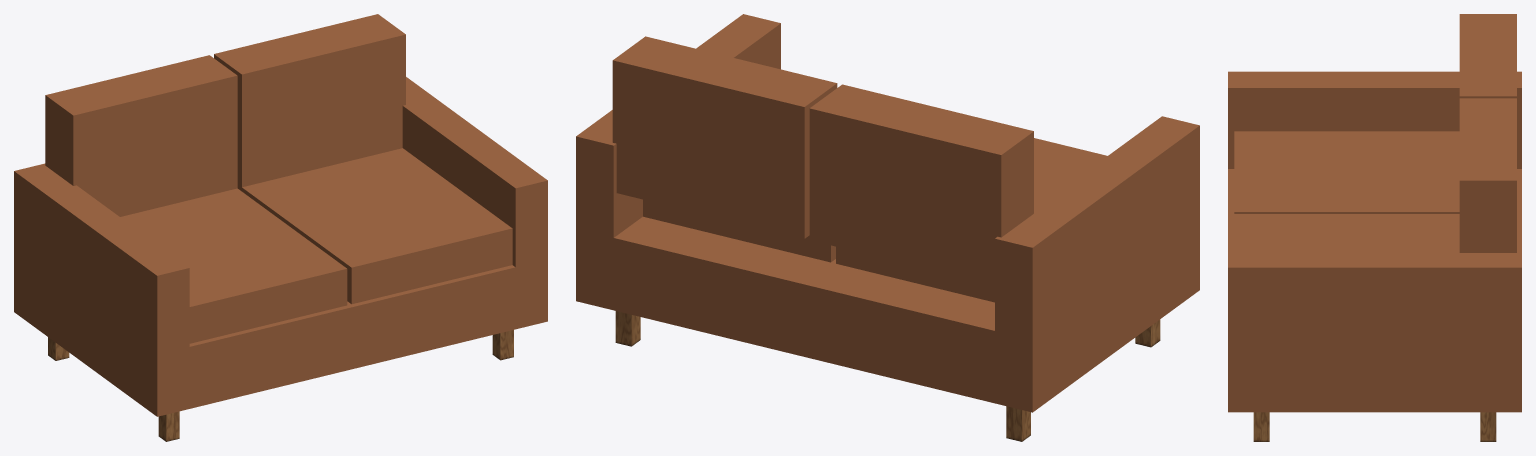
File: Kanape_kompakt.obj
The picture shows the model from 3 angles, left to right: view 1: azimuth 30°, elevation 25°; view 2: azimuth 150°, elevation 25°; view 3: azimuth 270°, elevation 25°; orthographic projection. The views are drawn at different scales.
Bounding box in the file's own units: 1.45 × 0.89 × 0.92.
2 materials, 1 textured.
